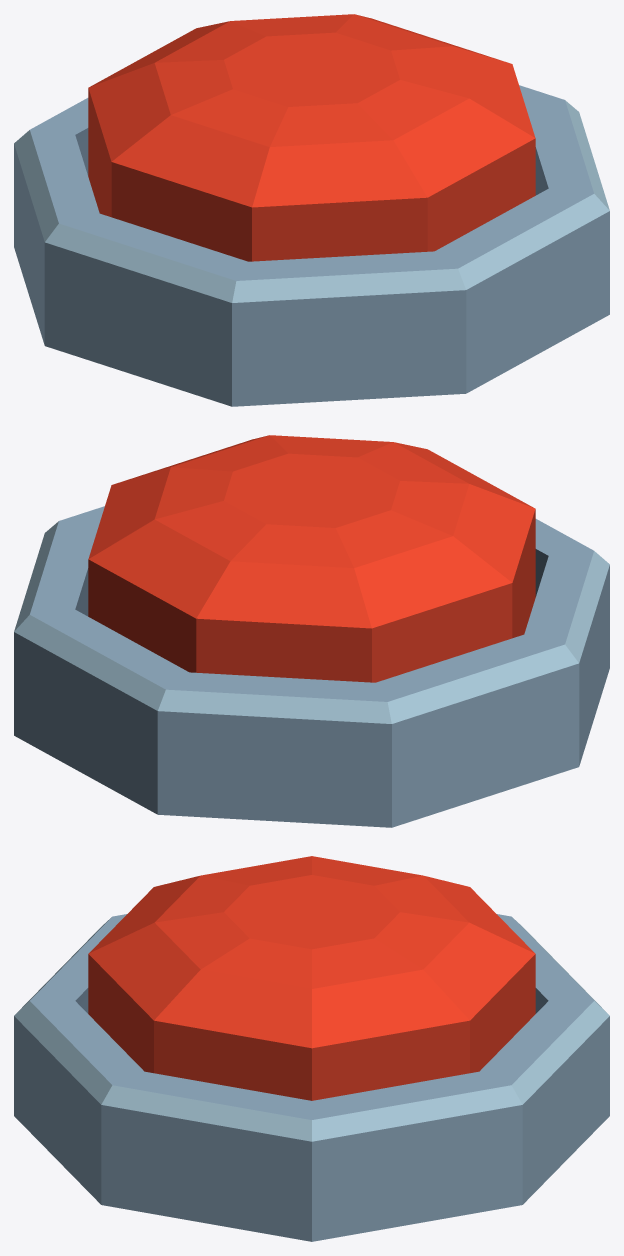
Rendered from redbutton.glb.
3 renders of one model, top to bottom at view 1: azimuth 30°, elevation 25°; view 2: azimuth 150°, elevation 25°; view 3: azimuth 270°, elevation 25°, orthographic. The views are drawn at different scales.
Parts seen in each view (by area): view 1: Base_Button, Button; view 2: Base_Button, Button; view 3: Base_Button, Button.
Boxes of the visible parts, left/top/right/bottom form: Base_Button: left=14, top=85, right=609, bottom=406; Button: left=88, top=14, right=535, bottom=261; Base_Button: left=14, top=506, right=609, bottom=827; Button: left=88, top=435, right=535, bottom=682; Base_Button: left=14, top=914, right=609, bottom=1241; Button: left=88, top=856, right=535, bottom=1100.
Bounding box in the file's own units: 0.5393 × 0.2035 × 0.5393.
Materials: 1 (1 with a texture image).
